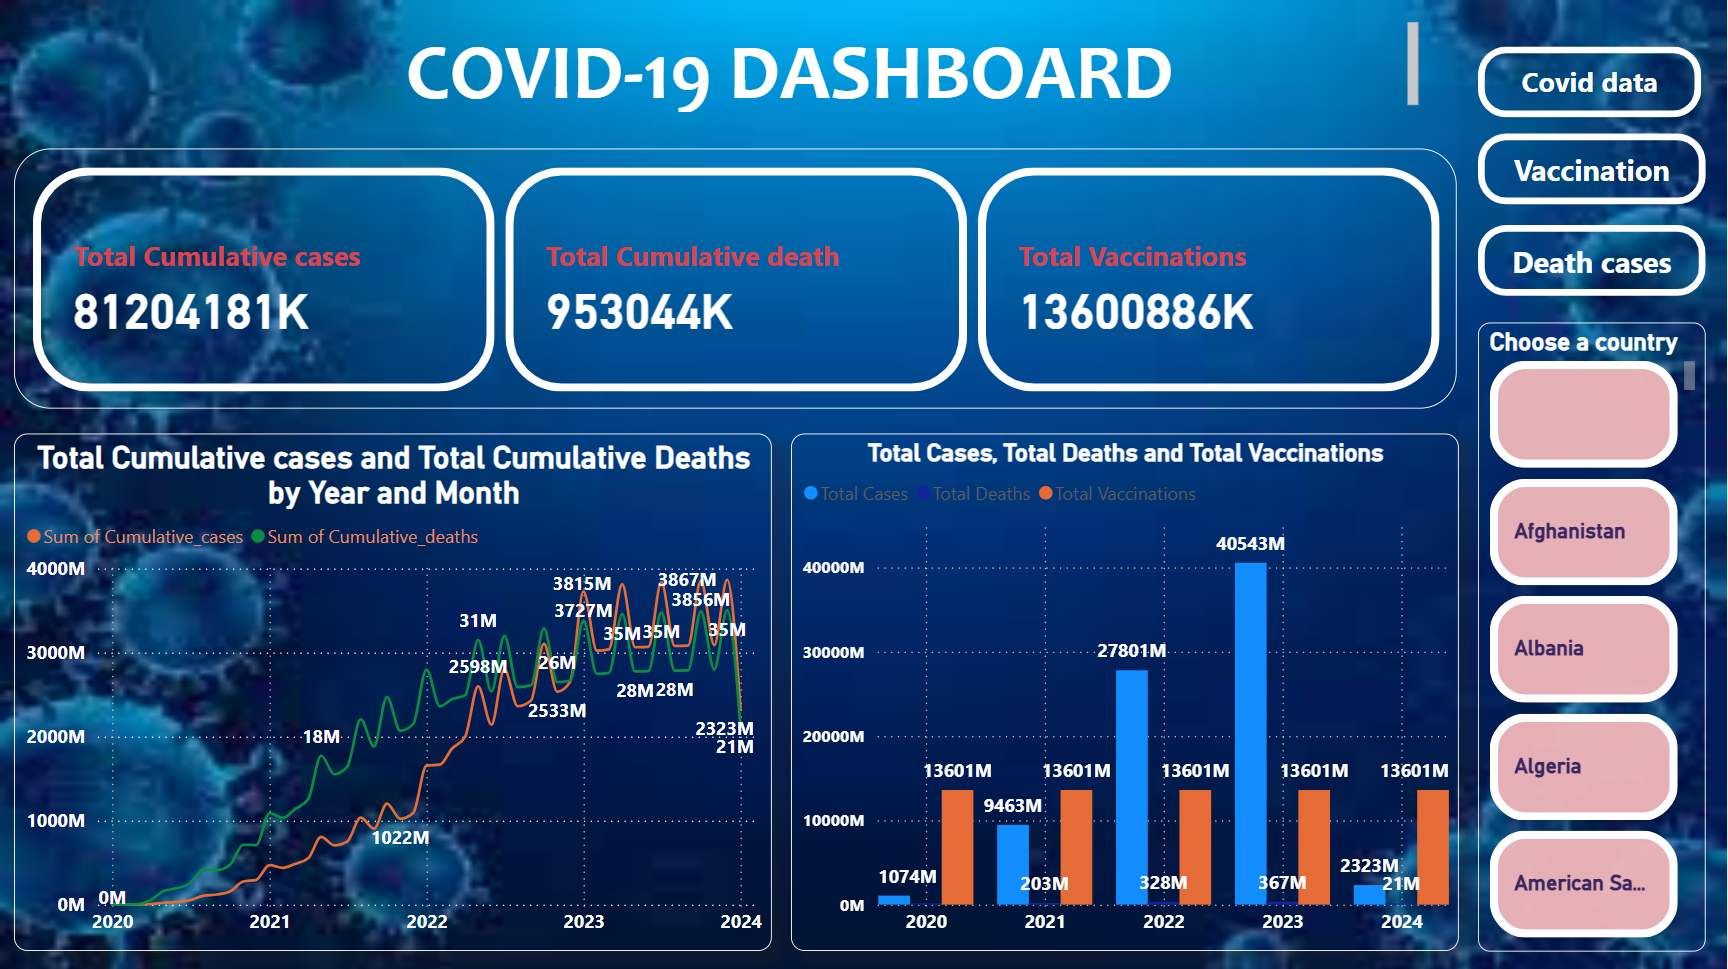

What the dashboard file says about the page in this screenshot:
{"tool":"powerbi","page":{"name":"Page 1","canvas":[1280,720],"ordinal":0},"visuals":[{"type":"advancedSlicerVisual","title":"Choose a country","fields":{"Values":["WHO-COVID-19-global-data (3).Country"]},"box":[1095.9,238.6,168.6,466],"z":0},{"type":"cardVisual","fields":{"Data":["Sum(WHO-COVID-19-global-data (3).Cumulative_cases)","Sum(WHO-COVID-19-global-data (3).Cumulative_deaths)","Sum(vaccination-data (1).TOTAL_VACCINATIONS)"]},"box":[11.1,109.8,1068.9,192.5],"z":1000},{"type":"actionButton","box":[1095.9,35,165.4,52.5],"z":2000},{"type":"actionButton","box":[1095.9,98.6,168.6,52.5],"z":3000},{"type":"actionButton","box":[1095.9,167,168.6,52.5],"z":4000},{"type":"textbox","box":[98.6,11.1,957.5,76.3],"z":5000},{"type":"lineChart","title":"Total Cumulative cases and Total Cumulative Deaths by Year and Month","fields":{"Category":["WHO-COVID-19-global-data (3).Date_reported.Variation.Date Hierarchy.Year","WHO-COVID-19-global-data (3).Date_reported.Variation.Date Hierarchy.Month"],"Y":["Sum(WHO-COVID-19-global-data (3).Cumulative_cases)"],"Y2":["Sum(WHO-COVID-19-global-data (3).Cumulative_deaths)"]},"box":[11.1,321.3,561.5,383.3],"z":6000},{"type":"clusteredColumnChart","title":"Total Cases, Total Deaths and Total Vaccinations","fields":{"Category":["WHO-COVID-19-global-data (3).Date_reported.Variation.Date Hierarchy.Year"],"Y":["Sum(WHO-COVID-19-global-data (3).Cumulative_cases)","Sum(WHO-COVID-19-global-data (3).Cumulative_deaths)","Sum(vaccination-data (1).TOTAL_VACCINATIONS)"]},"box":[586.9,321.3,494.7,383.3],"z":7000}]}

Visuals, with their boxes in screenshot pixels (x1, y1, x2, y2), scaled from the page's 1280x720 canvas onto the 1728x969 screenshot:
"Choose a country" advancedSlicerVisual: <box>1479,321,1707,948</box>
cardVisual - Sum(WHO-COVID-19-global-data (3).Cumulative_cases) x Sum(WHO-COVID-19-global-data (3).Cumulative_deaths): <box>15,148,1458,407</box>
actionButton: <box>1479,47,1703,118</box>
actionButton: <box>1479,133,1707,203</box>
actionButton: <box>1479,225,1707,295</box>
textbox: <box>133,15,1426,118</box>
"Total Cumulative cases and Total Cumulative Deaths by Year and Month" lineChart: <box>15,432,773,948</box>
"Total Cases, Total Deaths and Total Vaccinations" clusteredColumnChart: <box>792,432,1460,948</box>
